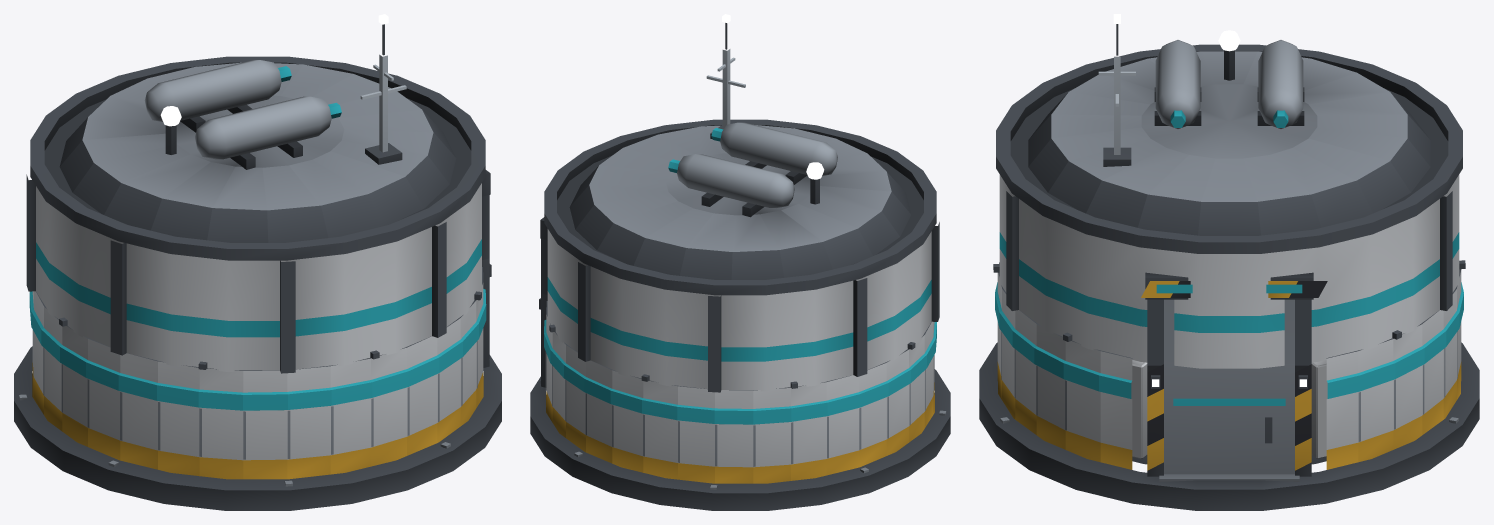
Rendered from airlock.glb.
3 views of the same model, side by side, from view 1: azimuth 30°, elevation 25°; view 2: azimuth 150°, elevation 25°; view 3: azimuth 270°, elevation 25° (orthographic). The views are drawn at different scales.
Visible parts, largest first — view 1: Roof, Base, Wall_20, Wall_21, Wall_22, Wall_19, Wall_23, Wall_18, Wall_24, Wall_17, Wall_25, Wall_16 (+5 smaller); view 2: Roof, Base, Wall_10, Wall_11, Wall_09, Wall_12, Wall_08, Wall_13, Wall_07, Wall_14, Wall_06, Wall_15 (+5 smaller); view 3: Roof, Base, Wall_02, Wall_29, Wall_28, Wall_03, Wall_04, Wall_27, Wall_26, Wall_05, Wall_06, Wall_25 (+2 smaller).
Part boxes in pixels (box(x1,y1,x2,y2)): Roof: box(26, 14, 490, 373); Base: box(14, 258, 501, 510); Wall_20: box(198, 361, 243, 479); Wall_21: box(243, 370, 287, 479); Wall_22: box(287, 365, 331, 479); Wall_19: box(157, 361, 199, 476); Wall_23: box(330, 358, 372, 474); Wall_18: box(118, 353, 157, 469); Wall_24: box(370, 347, 408, 466); Wall_17: box(86, 338, 120, 460); Wall_25: box(406, 336, 439, 455); Wall_16: box(59, 317, 88, 446); Roof: box(540, 14, 939, 392); Base: box(530, 293, 950, 510); Wall_10: box(714, 390, 753, 483); Wall_11: box(753, 387, 791, 483); Wall_09: box(677, 386, 714, 483); Wall_12: box(790, 381, 827, 480); Wall_08: box(641, 374, 677, 479); Wall_13: box(826, 375, 860, 475); Wall_07: box(610, 370, 643, 472); Wall_14: box(859, 362, 888, 467); Wall_06: box(584, 360, 612, 463); Wall_15: box(886, 349, 910, 455); Roof: box(996, 14, 1462, 368); Base: box(979, 342, 1479, 510); Wall_02: box(1311, 350, 1359, 469); Wall_29: box(1099, 350, 1147, 469); Wall_28: box(1063, 332, 1100, 462); Wall_03: box(1358, 338, 1395, 462); Wall_04: box(1392, 324, 1424, 449); Wall_27: box(1034, 324, 1065, 449); Wall_26: box(1012, 310, 1037, 434); Wall_05: box(1421, 310, 1446, 434); Wall_06: box(1443, 288, 1459, 418); Wall_25: box(999, 288, 1015, 418).
Size of the model in its own units: 5.35 by 5.02 by 5.35.
